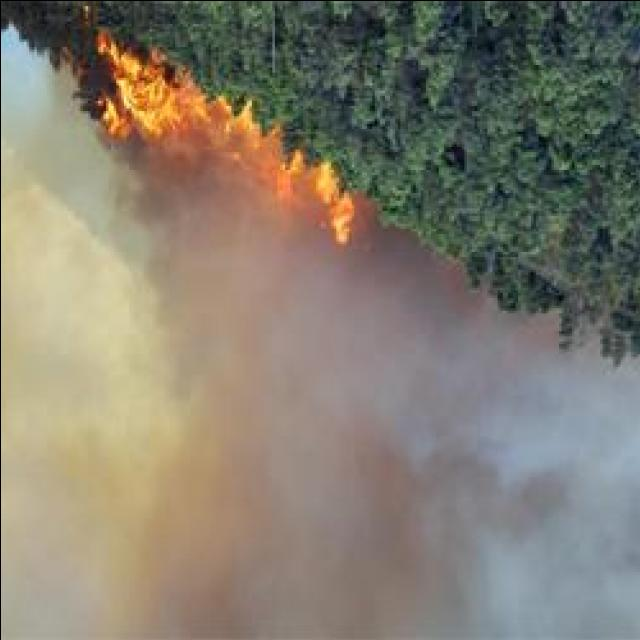fire: (120, 76, 166, 119), (162, 84, 208, 114), (334, 198, 349, 238), (320, 170, 334, 198)
smoke: (99, 506, 269, 636), (353, 461, 468, 640), (550, 478, 636, 640), (437, 444, 555, 542), (132, 164, 196, 344), (163, 341, 267, 445), (111, 160, 243, 238), (0, 130, 46, 270), (408, 282, 474, 368), (358, 230, 408, 290)
